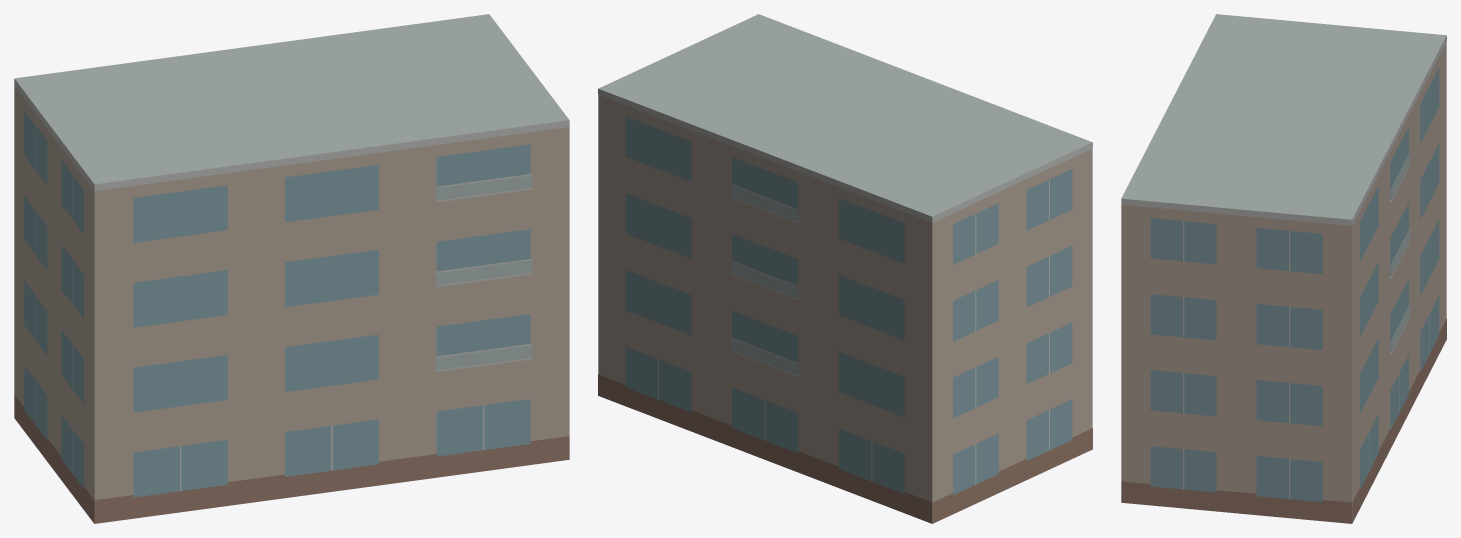
File: residential-24bc0d43-9ff4-4287-ae9d-3d2f185a1d53.glb
3 views of the same model, side by side, from view 1: azimuth 30°, elevation 25°; view 2: azimuth 150°, elevation 25°; view 3: azimuth 270°, elevation 25° (orthographic). The views are drawn at different scales.
Parts seen in each view (by area): view 1: residential-24bc0d43-9ff4-4287-ae9d-3d2f185a1d53.tmp; view 2: residential-24bc0d43-9ff4-4287-ae9d-3d2f185a1d53.tmp; view 3: residential-24bc0d43-9ff4-4287-ae9d-3d2f185a1d53.tmp.
Part boxes in pixels (x1=…): residential-24bc0d43-9ff4-4287-ae9d-3d2f185a1d53.tmp: x1=14, y1=14, x2=569, y2=523; residential-24bc0d43-9ff4-4287-ae9d-3d2f185a1d53.tmp: x1=598, y1=14, x2=1092, y2=523; residential-24bc0d43-9ff4-4287-ae9d-3d2f185a1d53.tmp: x1=1121, y1=14, x2=1446, y2=523.
Bounding box in the file's own units: 17.71 × 12.2 × 11.84.
